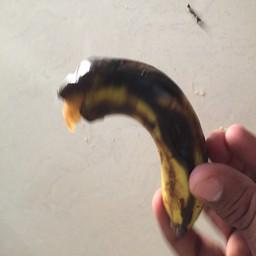Bad_banana: (56, 50, 207, 233)
